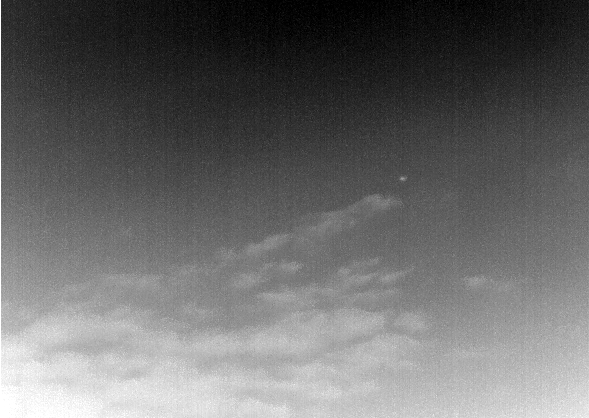dim target: (399, 176, 408, 181)
